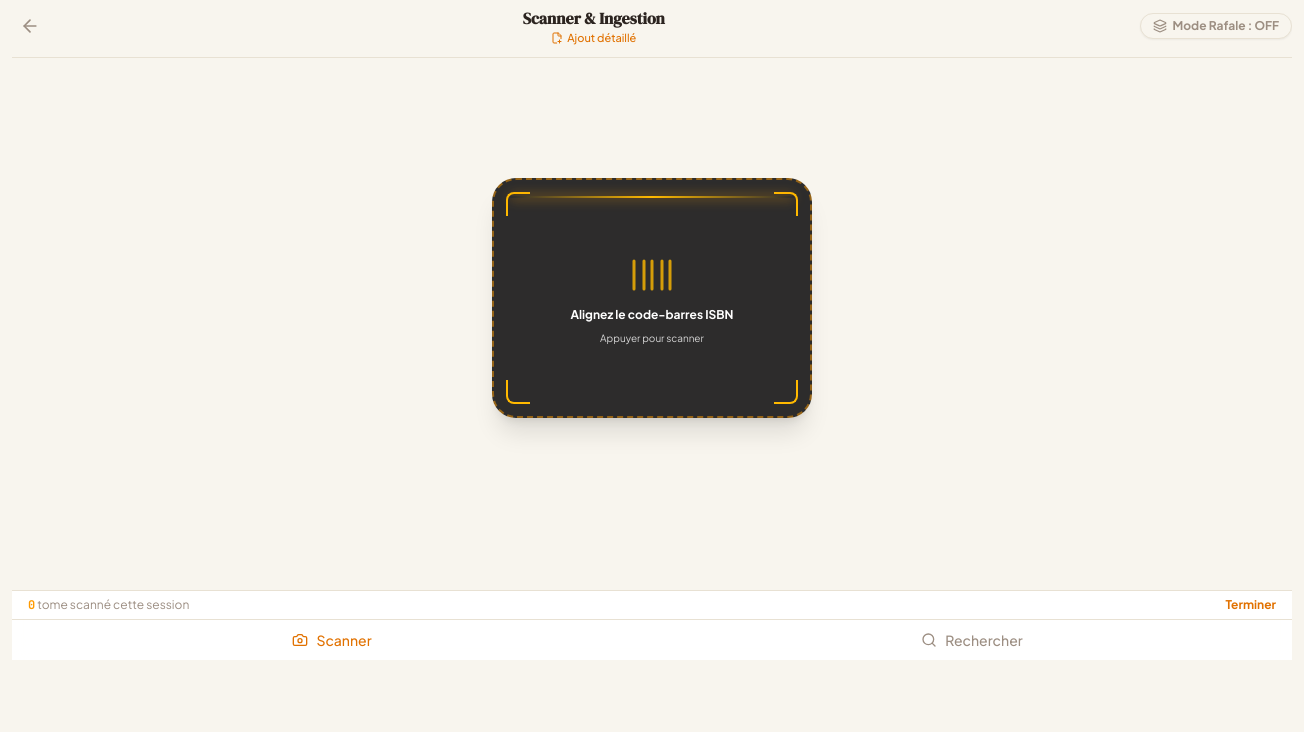
QuickAdd Page › toggles batch mode when clicking Mode Rafale button
Click the button "Mode Rafale : OFF".
click(1216, 26)  # box [1140, 13, 1292, 39]
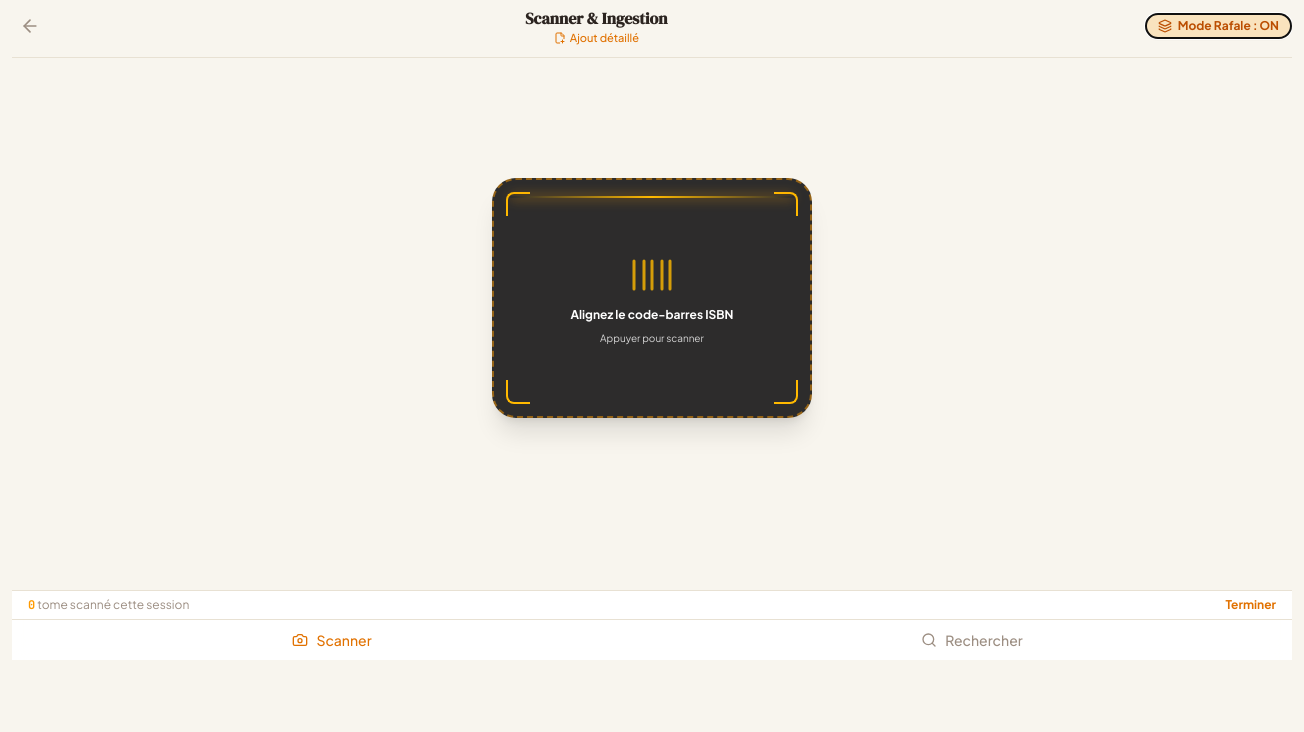
Expected: the button "Mode Rafale : ON" is shown, [1145, 13, 1292, 39]
